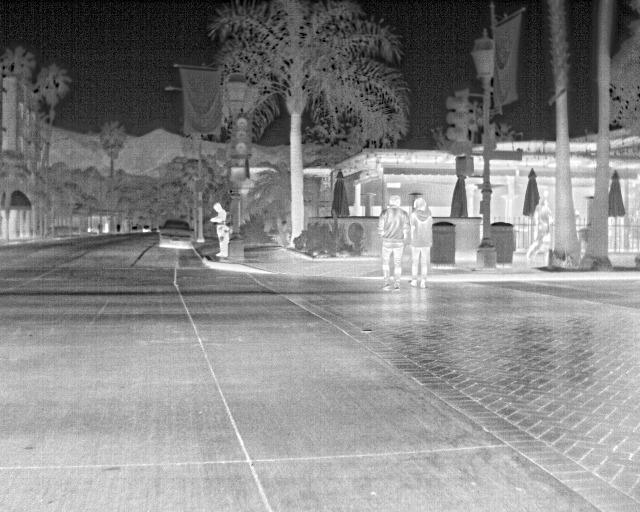bicycle: (154, 217, 197, 250)
empty: (378, 193, 409, 291), (406, 195, 436, 286), (525, 202, 553, 260), (208, 201, 234, 260)
